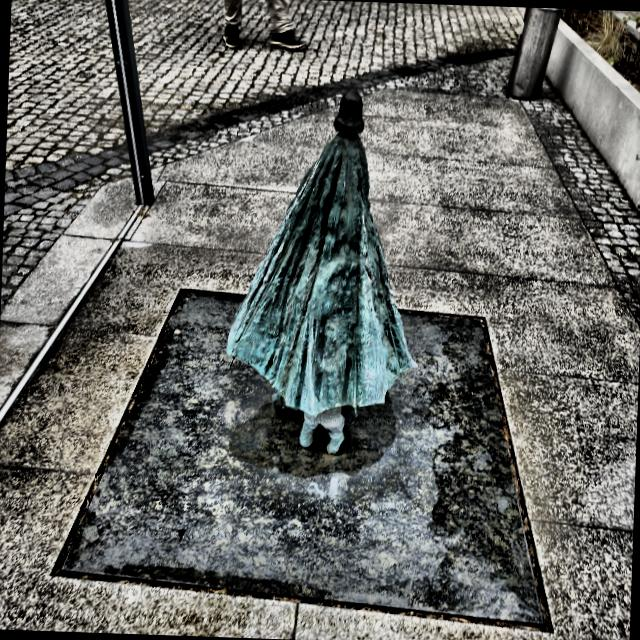Parasolniki: (226, 88, 415, 455)
